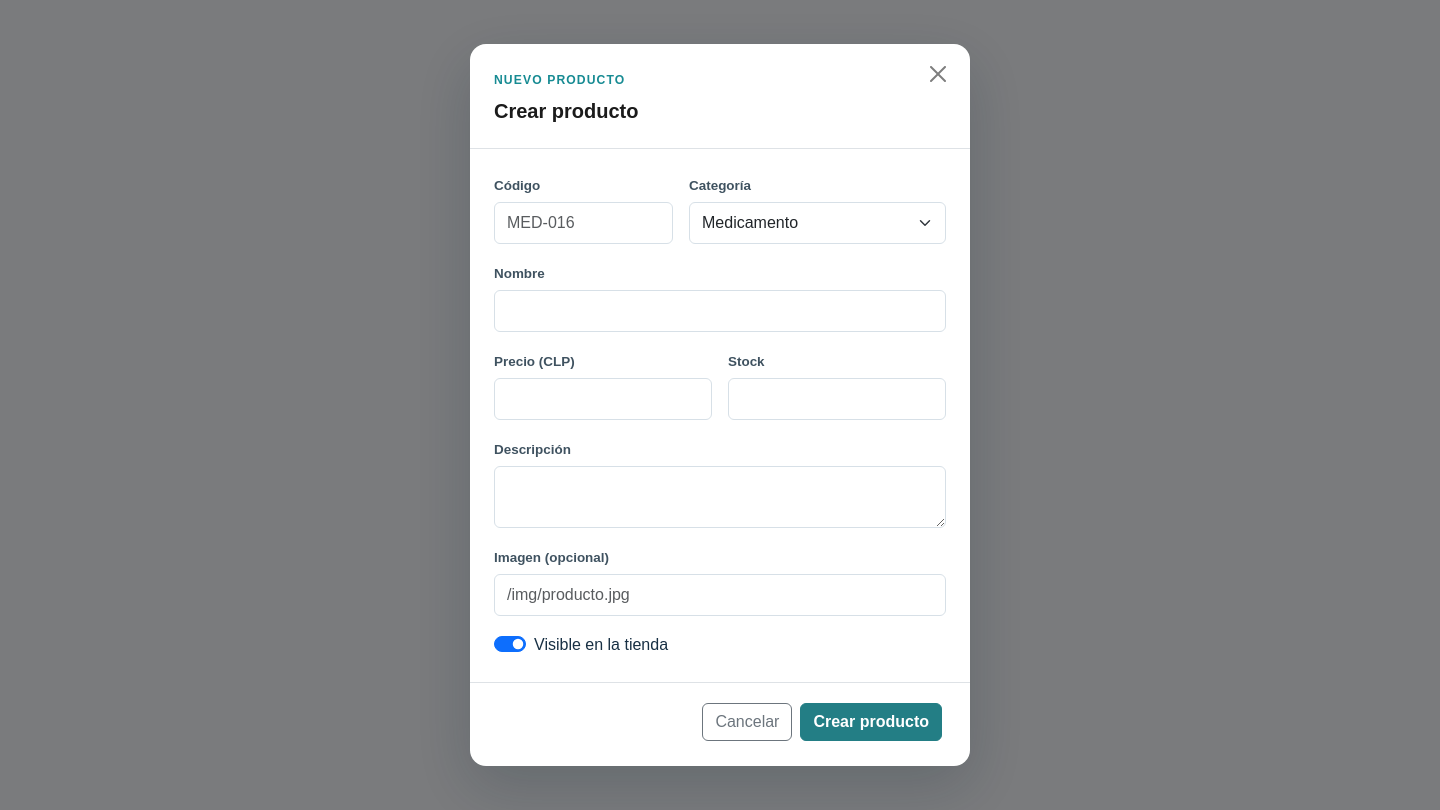
FormularioProducto › al crear exige código, nombre, precio y stock
The width and height of the screenshot is (1440, 810).
Click the button "Crear producto" at (871, 722), box [800,703,942,741]
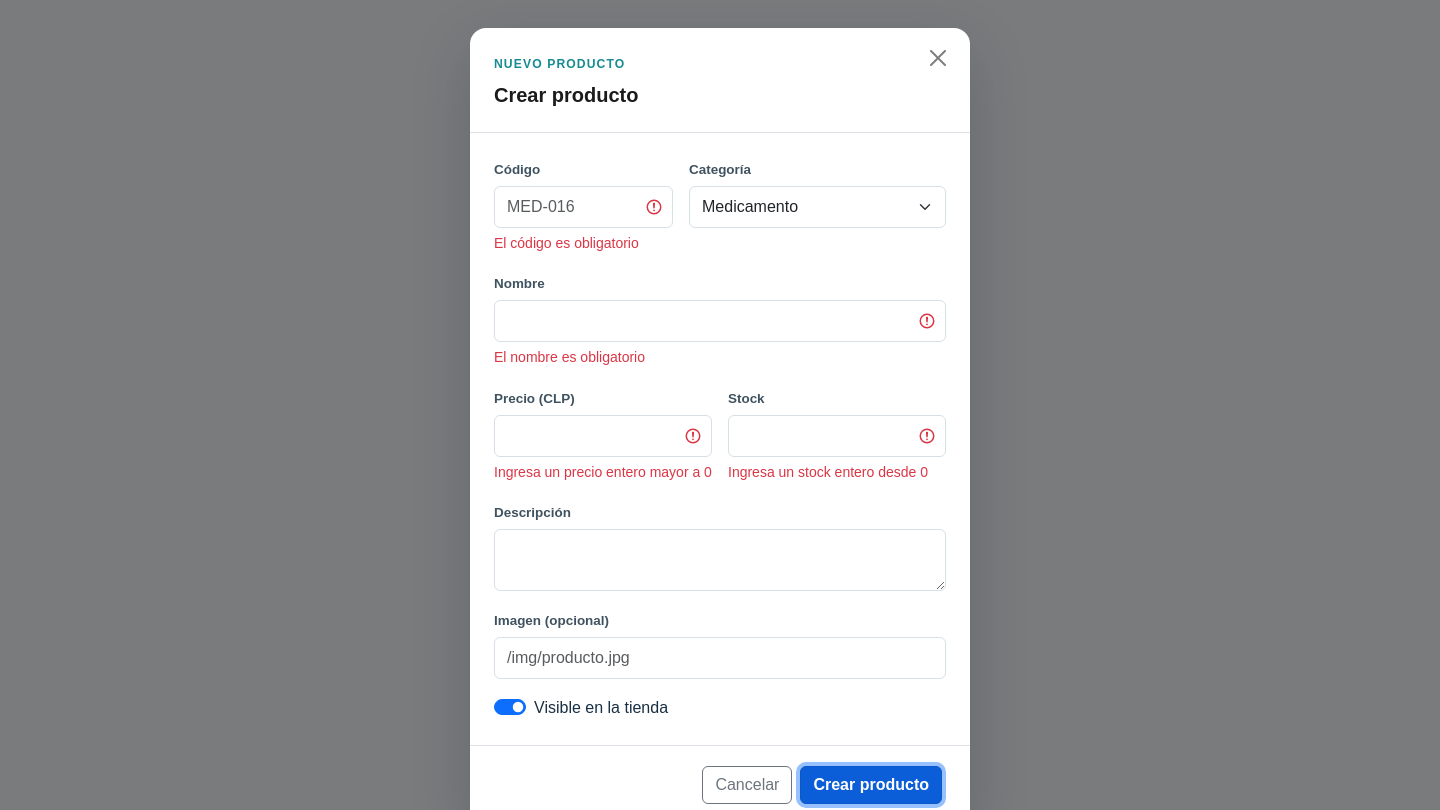
Check: the text "El código es obligatorio" is shown, box [494,235,639,251]
Check: the text "El nombre es obligatorio" is shown, box [494,349,645,365]
Check: the text "Ingresa un precio entero mayor a 0" is shown, box [494,461,712,483]
